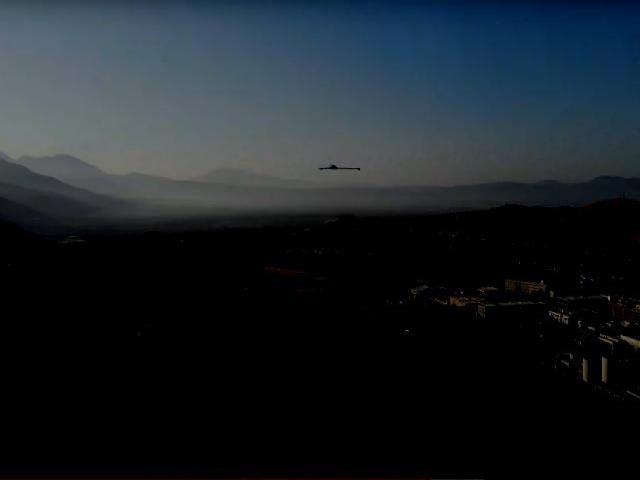iha: (317, 162, 362, 173)
